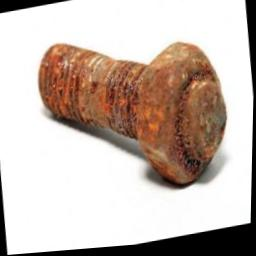Corroded-Bolt: (37, 44, 228, 189)
